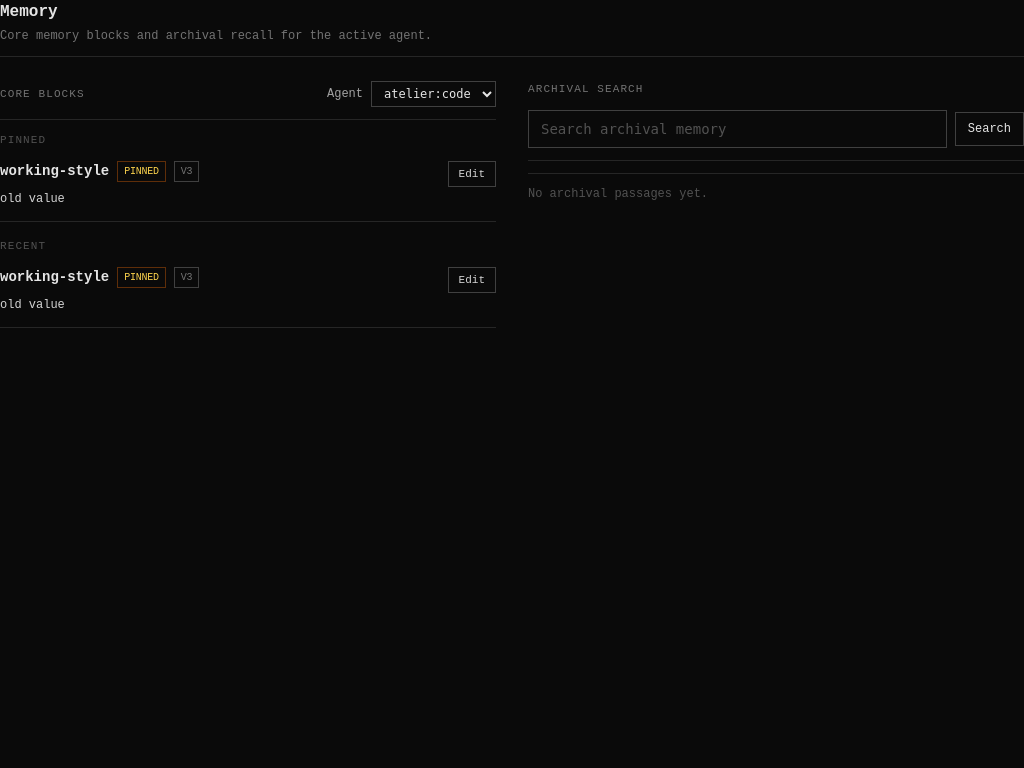
Memory page › sends expected_version and shows conflict UI on 409
Click the button with aria-label "Edit memory block working-style": (472,174) [448, 160, 496, 187]
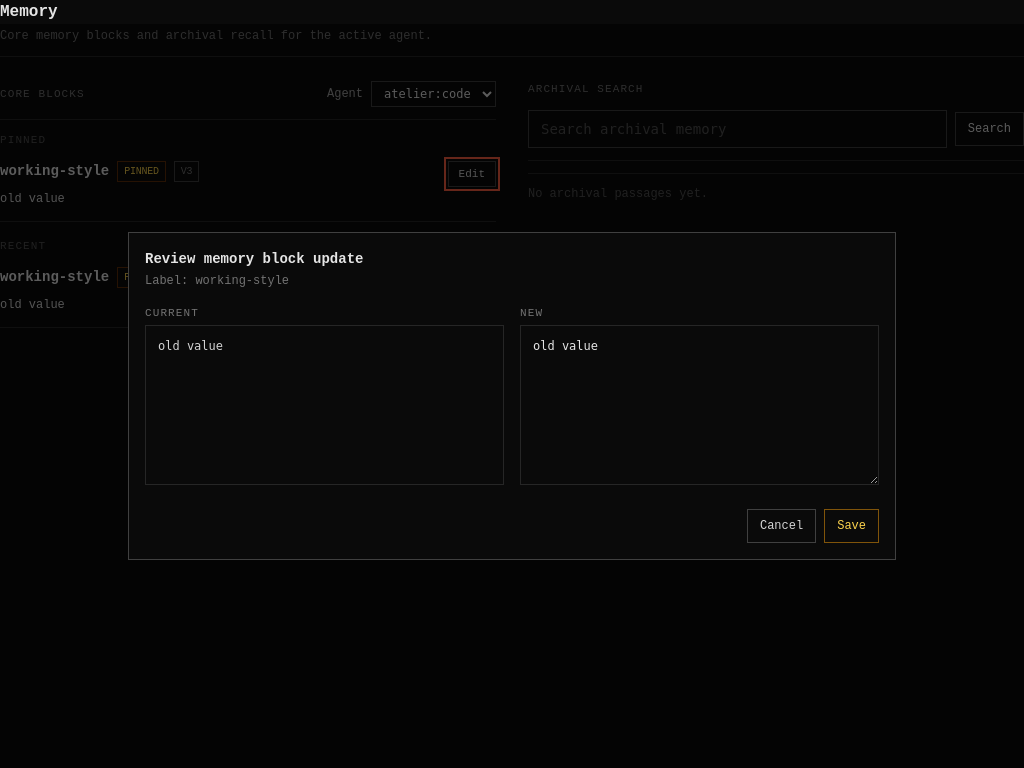
Replace the text in the text box named "Edit memory block value" with "new value": (700,405) [520, 325, 879, 485]
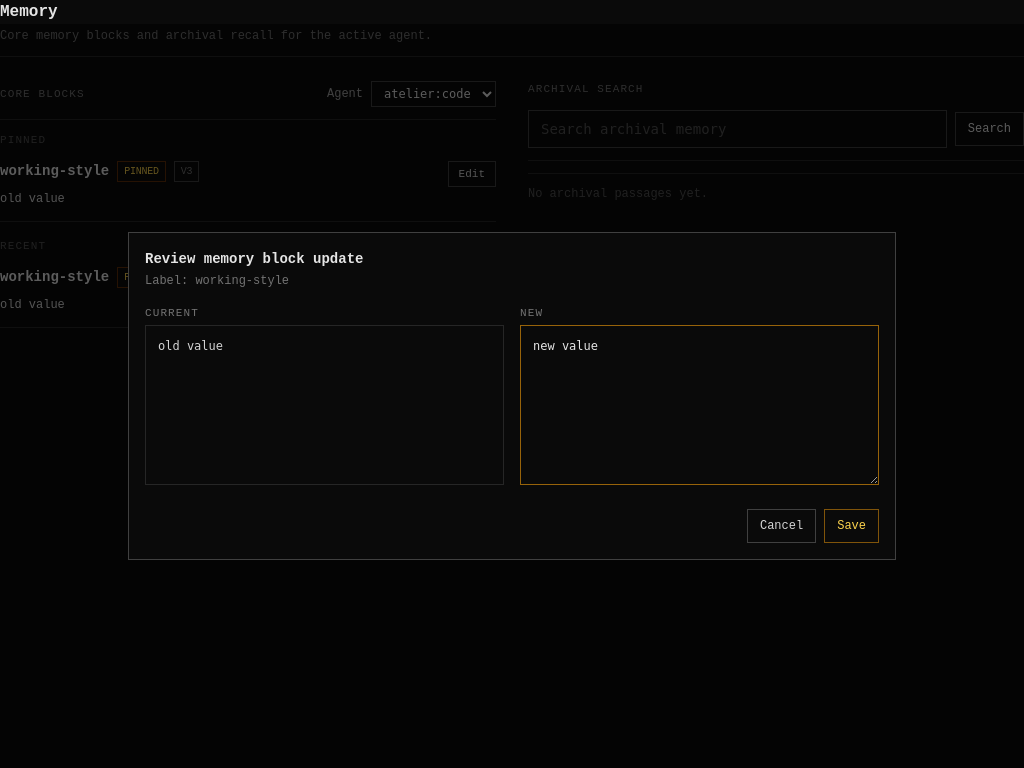
Click the button with aria-label "Save memory block edit": (852,526) [824, 509, 879, 543]
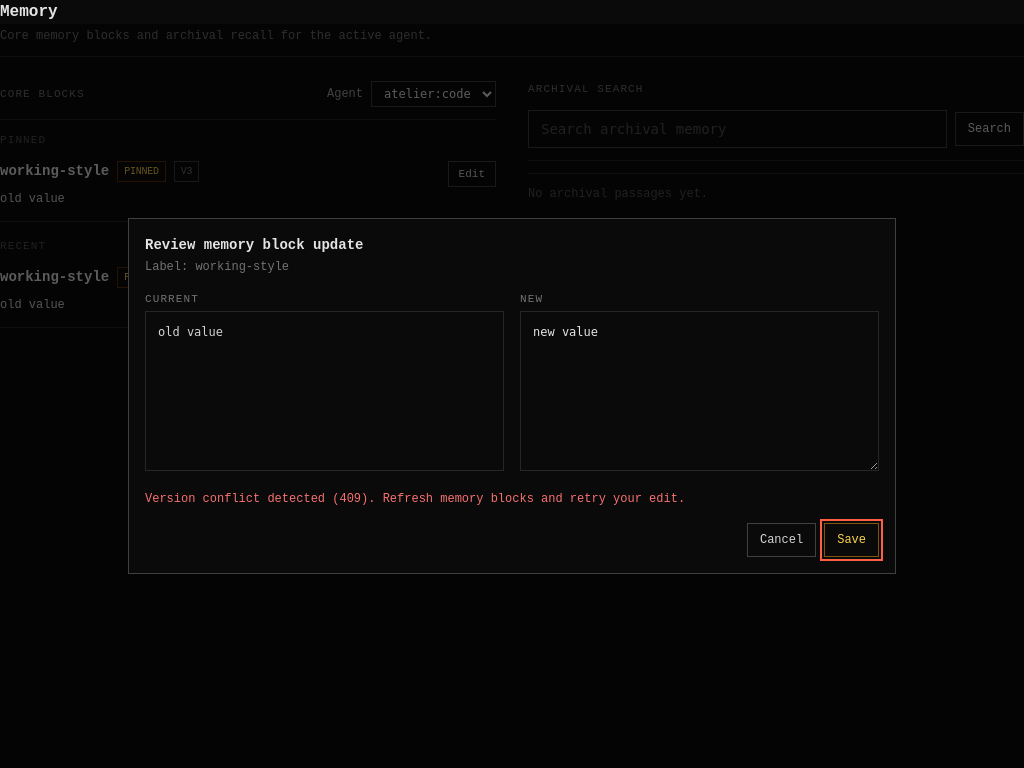
Check: the text "Version conflict detected" is shown, box [145, 492, 685, 506]
